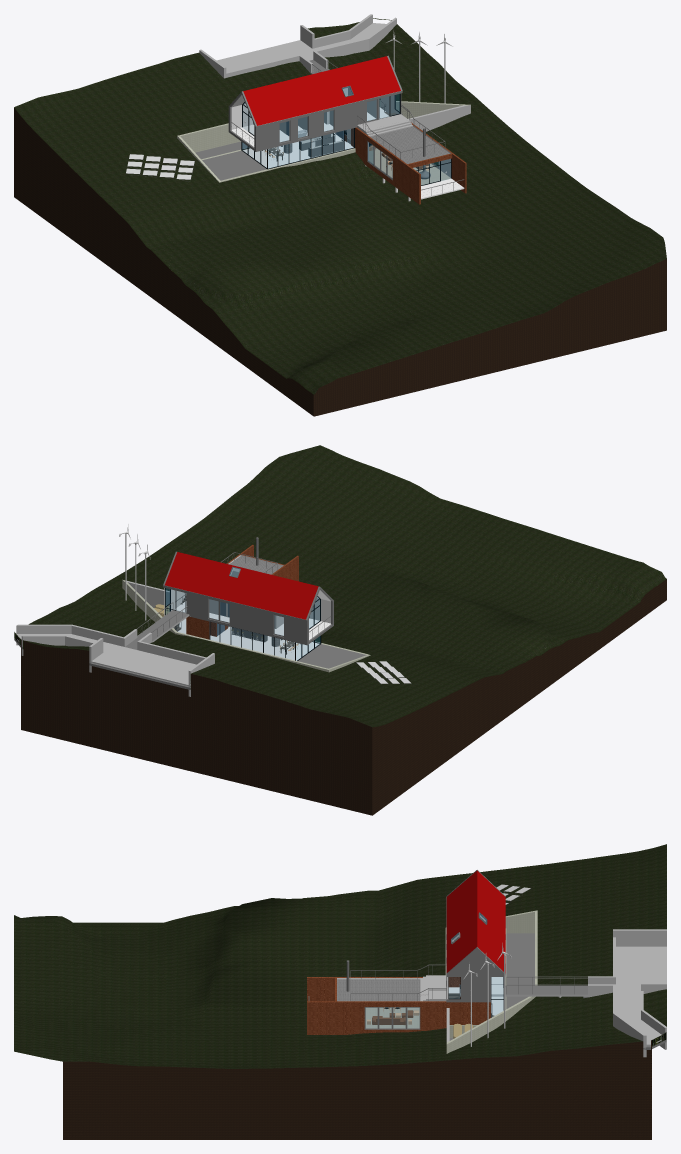
3 renders of one model, top to bottom at view 1: azimuth 30°, elevation 25°; view 2: azimuth 150°, elevation 25°; view 3: azimuth 270°, elevation 25°, orthographic. The views are drawn at different scales.
Visible parts, largest first — view 1: 411452, 243274, 428745, 766598, 849032, 724430, 495352, 493697, 176804, 427092, 493879, 493790 (+3 smaller); view 2: 411452, 490318, 243274, 428588, 766598, 176804, 495352, 764691, 745997, 493879, 746766, 746235; view 3: 411452, 243274, 427092, 766598, 724430, 198694, 647908, 493790, 764691, 849032, 599841, 490318 (+4 smaller).
Part boxes in pixels (x1=…): 411452: x1=14, y1=18, x2=666, y2=416; 243274: x1=232, y1=56, x2=400, y2=125; 428745: x1=257, y1=91, x2=401, y2=151; 766598: x1=216, y1=23, x2=385, y2=72; 849032: x1=355, y1=127, x2=420, y2=204; 724430: x1=370, y1=126, x2=449, y2=163; 495352: x1=202, y1=150, x2=266, y2=180; 493697: x1=178, y1=123, x2=240, y2=152; 176804: x1=243, y1=133, x2=353, y2=168; 427092: x1=380, y1=102, x2=466, y2=193; 493879: x1=408, y1=105, x2=467, y2=131; 493790: x1=379, y1=101, x2=470, y2=118; 411452: x1=14, y1=445, x2=666, y2=815; 490318: x1=14, y1=632, x2=190, y2=771; 243274: x1=164, y1=552, x2=330, y2=619; 428588: x1=164, y1=585, x2=305, y2=644; 766598: x1=16, y1=634, x2=196, y2=685; 176804: x1=177, y1=618, x2=319, y2=660; 495352: x1=298, y1=644, x2=366, y2=668; 764691: x1=125, y1=610, x2=189, y2=649; 745997: x1=137, y1=641, x2=206, y2=664; 493879: x1=126, y1=581, x2=169, y2=607; 746766: x1=16, y1=624, x2=71, y2=645; 746235: x1=68, y1=624, x2=125, y2=646; 411452: x1=14, y1=844, x2=666, y2=1139; 243274: x1=446, y1=870, x2=505, y2=973; 427092: x1=307, y1=1001, x2=490, y2=1034; 766598: x1=616, y1=946, x2=666, y2=1045; 724430: x1=337, y1=979, x2=420, y2=1001; 198694: x1=446, y1=947, x2=505, y2=1002; 647908: x1=506, y1=933, x2=534, y2=1008; 493790: x1=446, y1=996, x2=534, y2=1053; 764691: x1=505, y1=985, x2=587, y2=996; 849032: x1=307, y1=977, x2=422, y2=1001; 599841: x1=613, y1=929, x2=666, y2=946; 490318: x1=643, y1=1033, x2=666, y2=1139.
Bounding box in the file's own units: 50.43 × 19.16 × 70.36.
92 materials, 21 textured.
